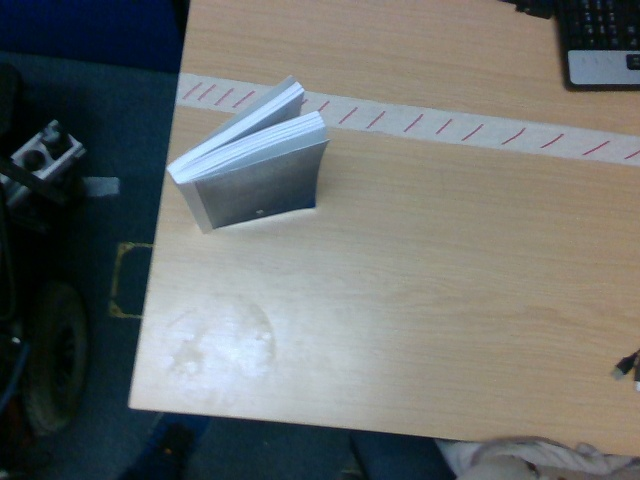book: (167, 76, 330, 236)
